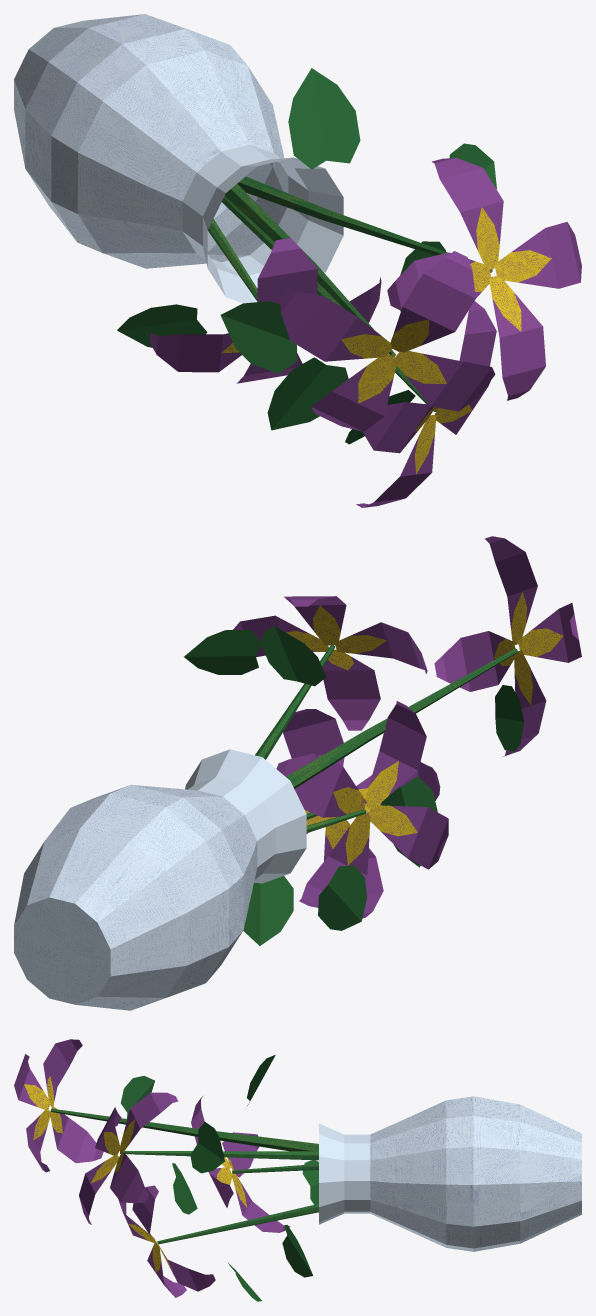
3 renders of one model, top to bottom at view 1: azimuth 30°, elevation 25°; view 2: azimuth 150°, elevation 25°; view 3: azimuth 270°, elevation 25°, orthographic. The views are drawn at different scales.
Parts seen in each view (by area): view 1: short vase with flowers; view 2: short vase with flowers; view 3: short vase with flowers.
Part boxes in pixels (box(x1,y1,x2,y2)): short vase with flowers: box(14, 14, 581, 507); short vase with flowers: box(14, 536, 581, 1010); short vase with flowers: box(14, 1039, 581, 1301).
Bounding box in the file's own units: 5.17 × 5.37 × 11.4.
